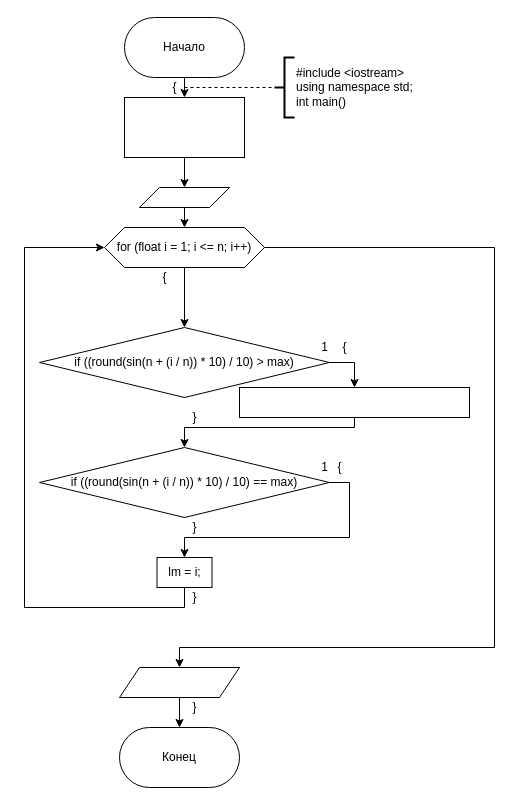
Some shapes in this 520 by 805 pixel diagram are drawn without their labels. The centre of each missing label's shape, as x and y in pixels:
"cin >> n;" goes at (184,197).
"cout << sum;" goes at (179,682).
"float n, max; float lm = 0; float fm = 0; max = -1;" goes at (184,127).
"max = (round(sin(n + (i / n)) * 10) / 10); fm = i;" goes at (354,402).
